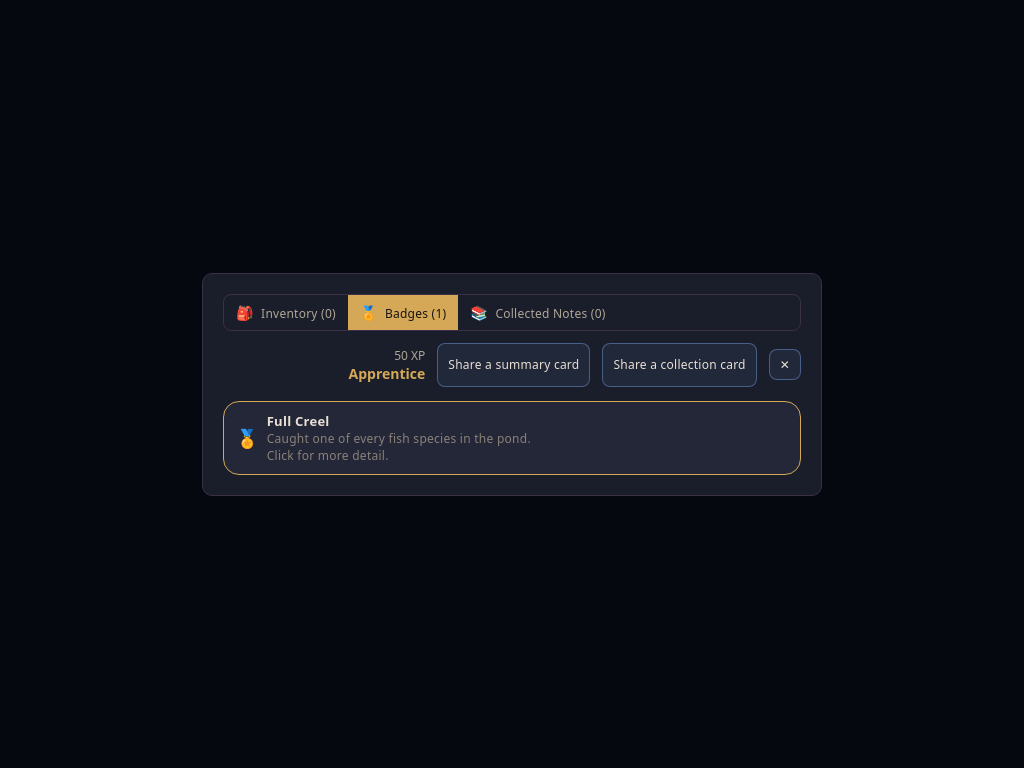
Scenario: every canonical badge is named, and no badge is named by its id › explains FshFullCreel as a catch rather than as a dungeon milestone
Click the button that starts with "Full Creel": (512,438) [223,400,801,474]
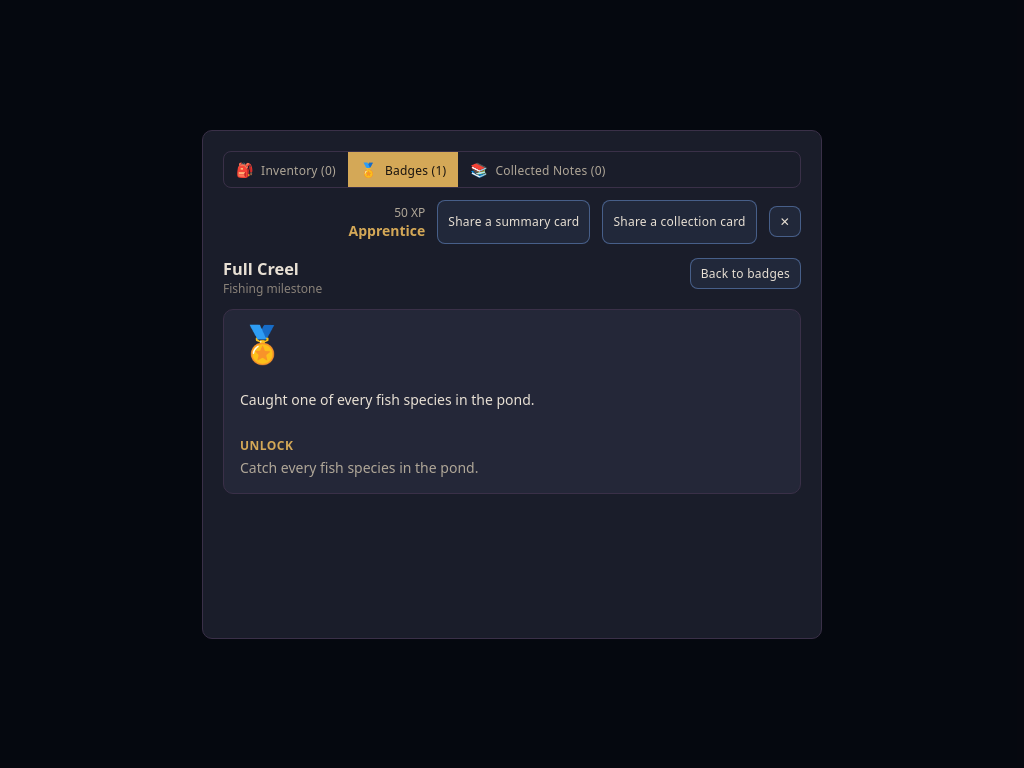
Check: the text "Caught one of every fish species in the pond." is shown, box [240,390,534,408]
Check: the text "Fishing milestone" is shown, box [223,280,322,296]
Check: the text "Catch every fish species in the pond." is shown, box [240,458,478,476]
